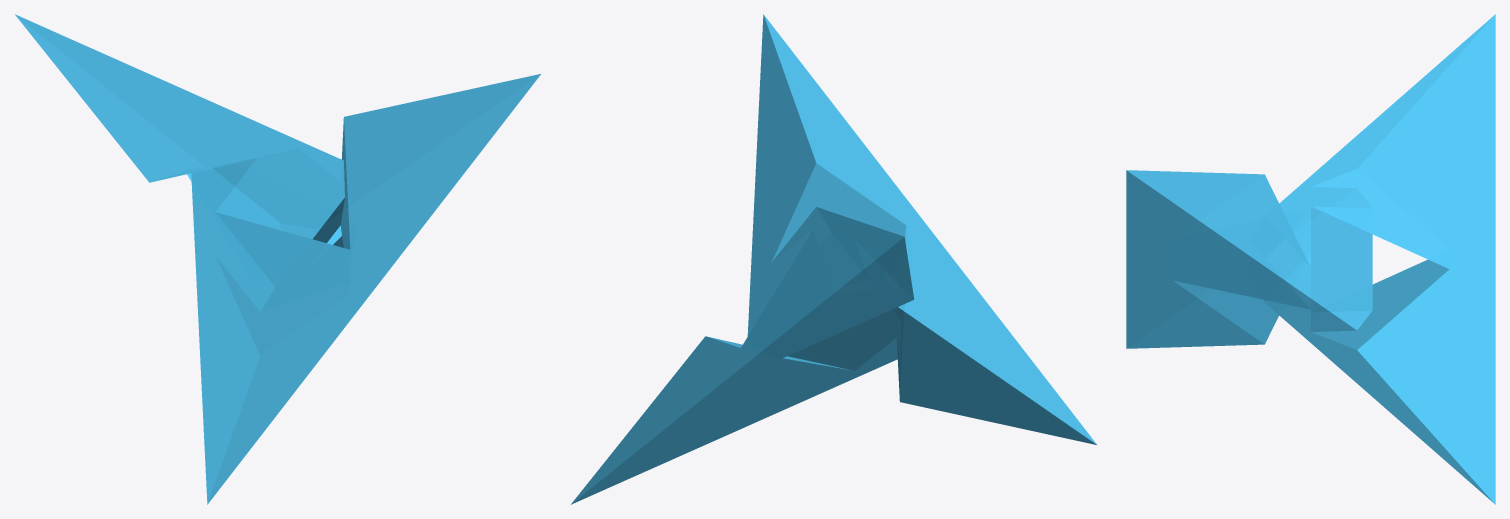
Rendered from HeptagonalDodecahedron_D.obj.
3 views of the same model, side by side, from view 1: azimuth 30°, elevation 25°; view 2: azimuth 150°, elevation 25°; view 3: azimuth 270°, elevation 25° (orthographic). The views are drawn at different scales.
Bounding box in the file's own units: 4.8 × 4.8 × 4.8.
